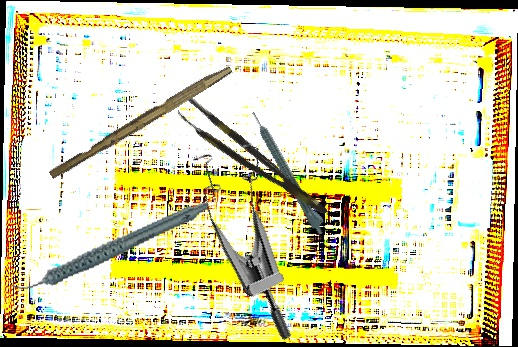Handpiece: (1, 199, 219, 294), (248, 107, 331, 237)
Scalpel Handle: (47, 59, 234, 184)
Speculum: (162, 124, 361, 343)
Tissue Forceps: (174, 95, 330, 228)
